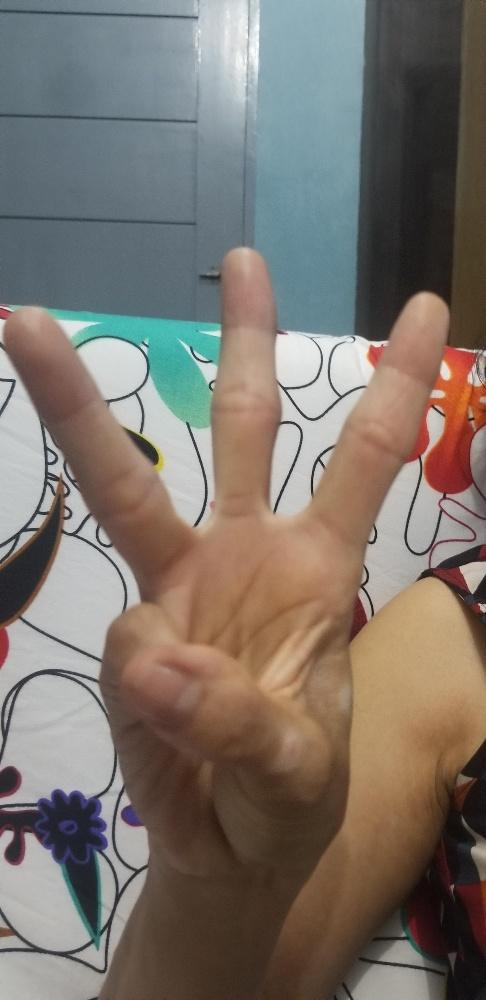w: (0, 238, 452, 888)
